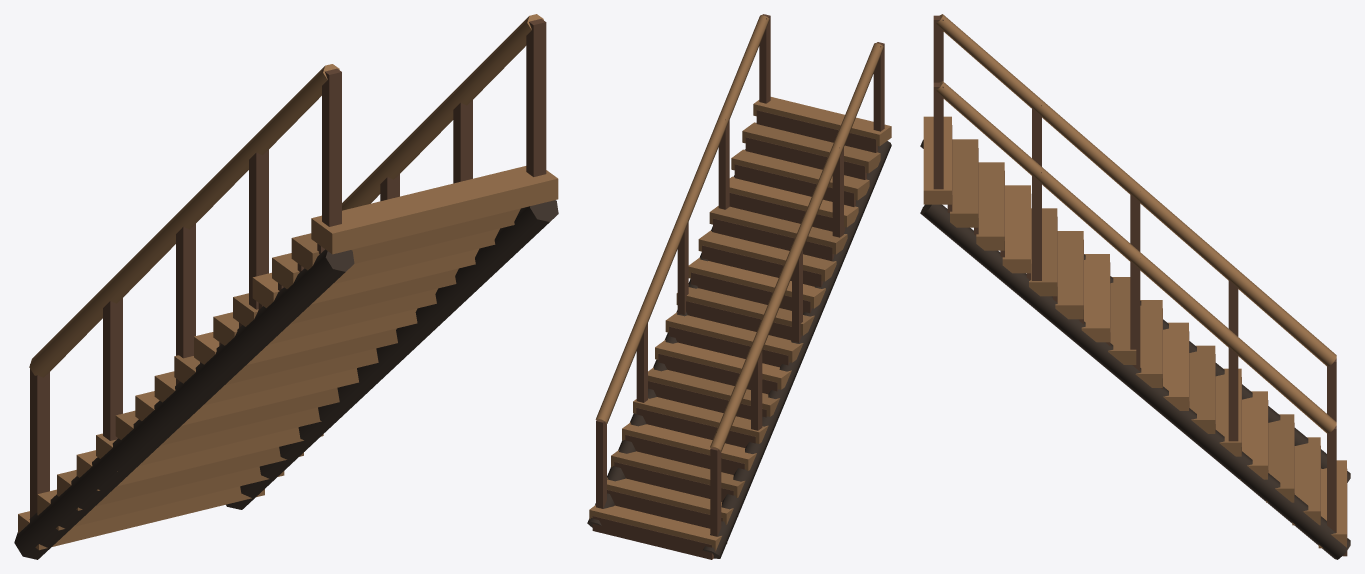
Rendered from Stairs_Straight.glb.
The picture shows the model from 3 angles, left to right: view 1: azimuth 30°, elevation 25°; view 2: azimuth 150°, elevation 25°; view 3: azimuth 270°, elevation 25°; orthographic projection. The views are drawn at different scales.
Visible parts, largest first — view 1: _MeshInstance3D_4101, _MeshInstance3D_4099, _MeshInstance3D_4108, _MeshInstance3D_4107, _MeshInstance3D_4114, _MeshInstance3D_4097, _MeshInstance3D_4113, _MeshInstance3D_4071, _MeshInstance3D_4095, _MeshInstance3D_4093, _MeshInstance3D_4069, _MeshInstance3D_4089 (+15 smaller); view 2: _MeshInstance3D_4114, _MeshInstance3D_4107, _MeshInstance3D_4101, _MeshInstance3D_4099, _MeshInstance3D_4097, _MeshInstance3D_4083, _MeshInstance3D_4091, _MeshInstance3D_4069, _MeshInstance3D_4089, _MeshInstance3D_4095, _MeshInstance3D_4075, _MeshInstance3D_4073 (+34 smaller); view 3: _MeshInstance3D_4108, _MeshInstance3D_4114, _MeshInstance3D_4107, _MeshInstance3D_4097, _MeshInstance3D_4095, _MeshInstance3D_4089, _MeshInstance3D_4093, _MeshInstance3D_4087, _MeshInstance3D_4079, _MeshInstance3D_4081, _MeshInstance3D_4073, _MeshInstance3D_4083 (+17 smaller).
Part boxes in pixels (x1,y1,x2,y2): _MeshInstance3D_4101: (14, 249, 354, 559); _MeshInstance3D_4099: (311, 166, 558, 254); _MeshInstance3D_4108: (226, 200, 558, 509); _MeshInstance3D_4107: (29, 64, 339, 377); _MeshInstance3D_4114: (342, 14, 543, 210); _MeshInstance3D_4097: (291, 208, 520, 270); _MeshInstance3D_4113: (526, 18, 546, 176); _MeshInstance3D_4071: (37, 466, 284, 530); _MeshInstance3D_4095: (272, 228, 499, 288); _MeshInstance3D_4093: (252, 248, 479, 307); _MeshInstance3D_4069: (18, 486, 264, 550); _MeshInstance3D_4089: (213, 288, 437, 345); _MeshInstance3D_4114: (595, 15, 769, 423); _MeshInstance3D_4107: (710, 43, 883, 451); _MeshInstance3D_4101: (702, 141, 891, 558); _MeshInstance3D_4099: (753, 97, 891, 146); _MeshInstance3D_4097: (742, 122, 880, 173); _MeshInstance3D_4083: (665, 312, 803, 362); _MeshInstance3D_4091: (709, 206, 847, 254); _MeshInstance3D_4069: (589, 505, 727, 551); _MeshInstance3D_4089: (698, 230, 836, 281); _MeshInstance3D_4095: (731, 149, 869, 200); _MeshInstance3D_4075: (622, 422, 756, 470); _MeshInstance3D_4073: (611, 450, 745, 497); _MeshInstance3D_4108: (920, 204, 1350, 559); _MeshInstance3D_4114: (936, 81, 1336, 433); _MeshInstance3D_4107: (936, 14, 1336, 366); _MeshInstance3D_4097: (950, 139, 978, 227); _MeshInstance3D_4095: (976, 162, 1004, 250); _MeshInstance3D_4089: (1055, 231, 1083, 319); _MeshInstance3D_4093: (1002, 185, 1030, 273); _MeshInstance3D_4087: (1081, 254, 1109, 342); _MeshInstance3D_4079: (1189, 345, 1215, 433); _MeshInstance3D_4081: (1163, 322, 1188, 410); _MeshInstance3D_4073: (1266, 414, 1294, 502); _MeshInstance3D_4083: (1135, 300, 1162, 387).
Bounding box in the file's own units: 1.31 × 3.75 × 3.07.
